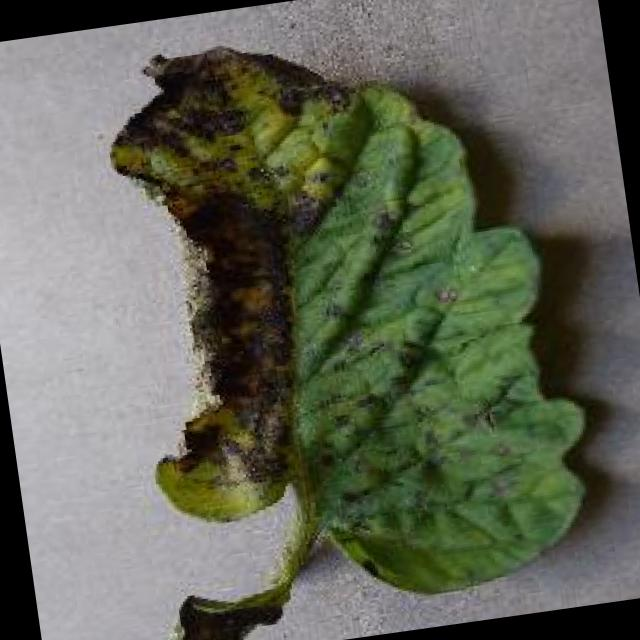Tomato_Early_Blight: (59, 0, 628, 628)
